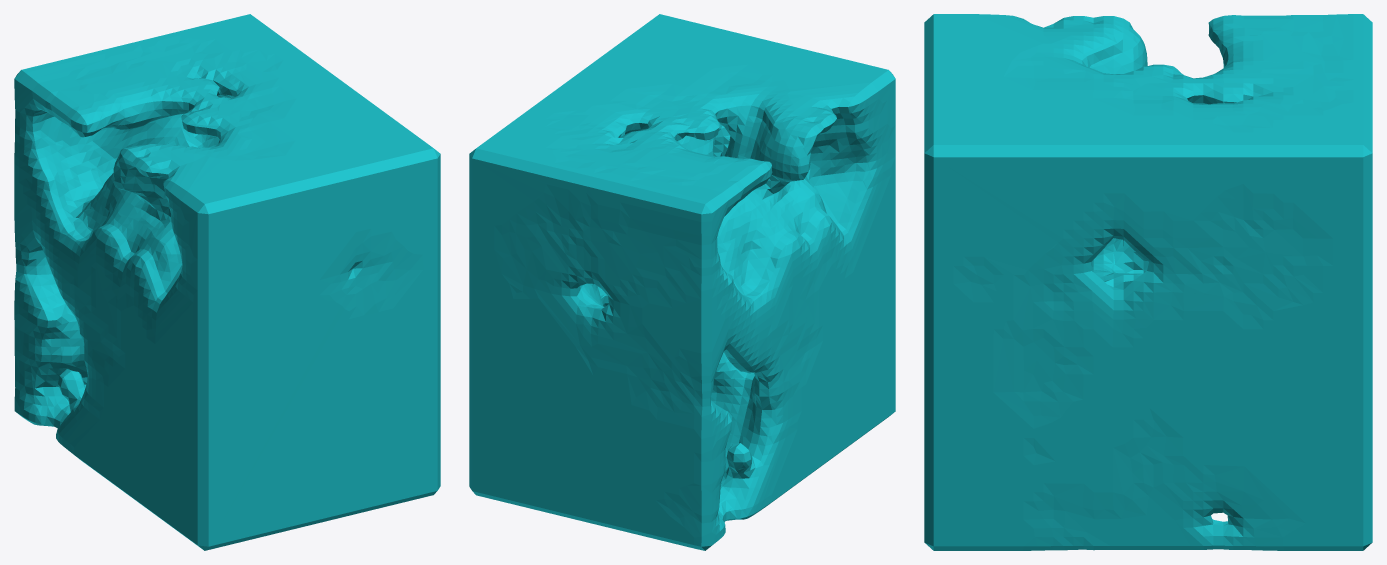
The picture shows the model from 3 angles, left to right: view 1: azimuth 30°, elevation 25°; view 2: azimuth 150°, elevation 25°; view 3: azimuth 270°, elevation 25°; orthographic projection. The views are drawn at different scales.
Visible parts, largest first — view 1: Liquid_Domain; view 2: Liquid_Domain; view 3: Liquid_Domain.
Boxes of the visible parts, x1=… form: Liquid_Domain: x1=14, y1=14, x2=440, y2=550; Liquid_Domain: x1=469, y1=14, x2=895, y2=550; Liquid_Domain: x1=924, y1=14, x2=1372, y2=550.
Bounding box in the file's own units: 79.1 × 108 × 108.
